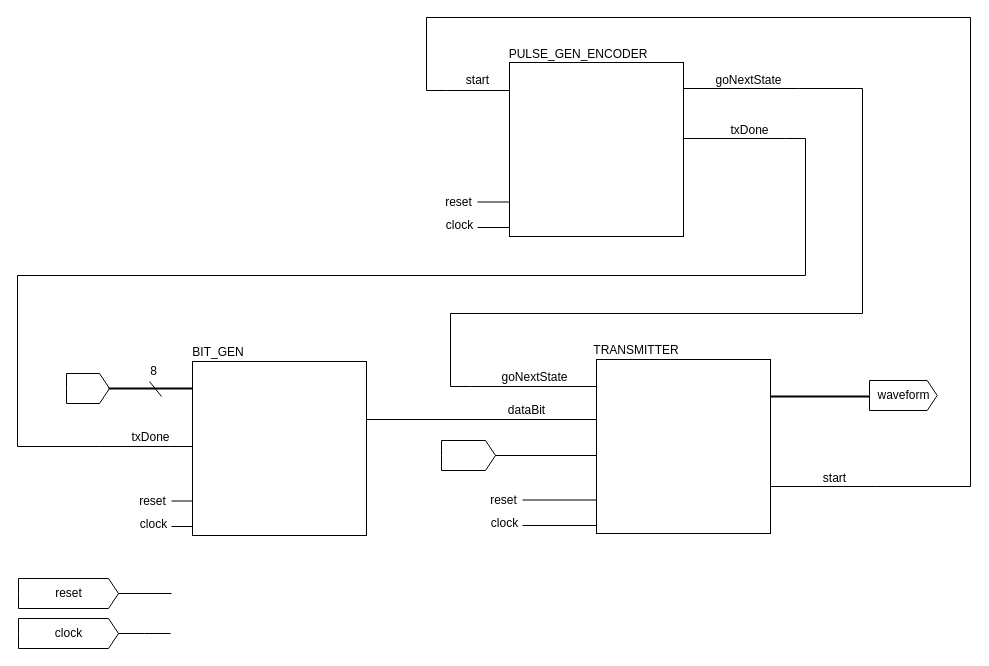
The diagram is 989 pixels wide and 666 high, and some of its shapes have lost their labels. Here are the shapes that lost their labels. From the top down, the box of each, then its label:
(66, 372, 110, 404): data
(440, 440, 496, 470): txEn
